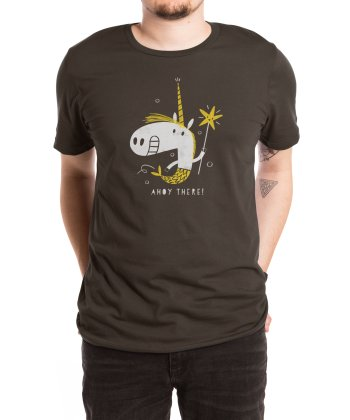design: (123, 73, 226, 201)
